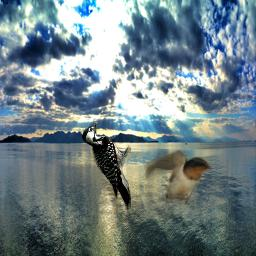Swallow: (143, 149, 212, 204)
Woodpecker: (81, 120, 131, 213)
